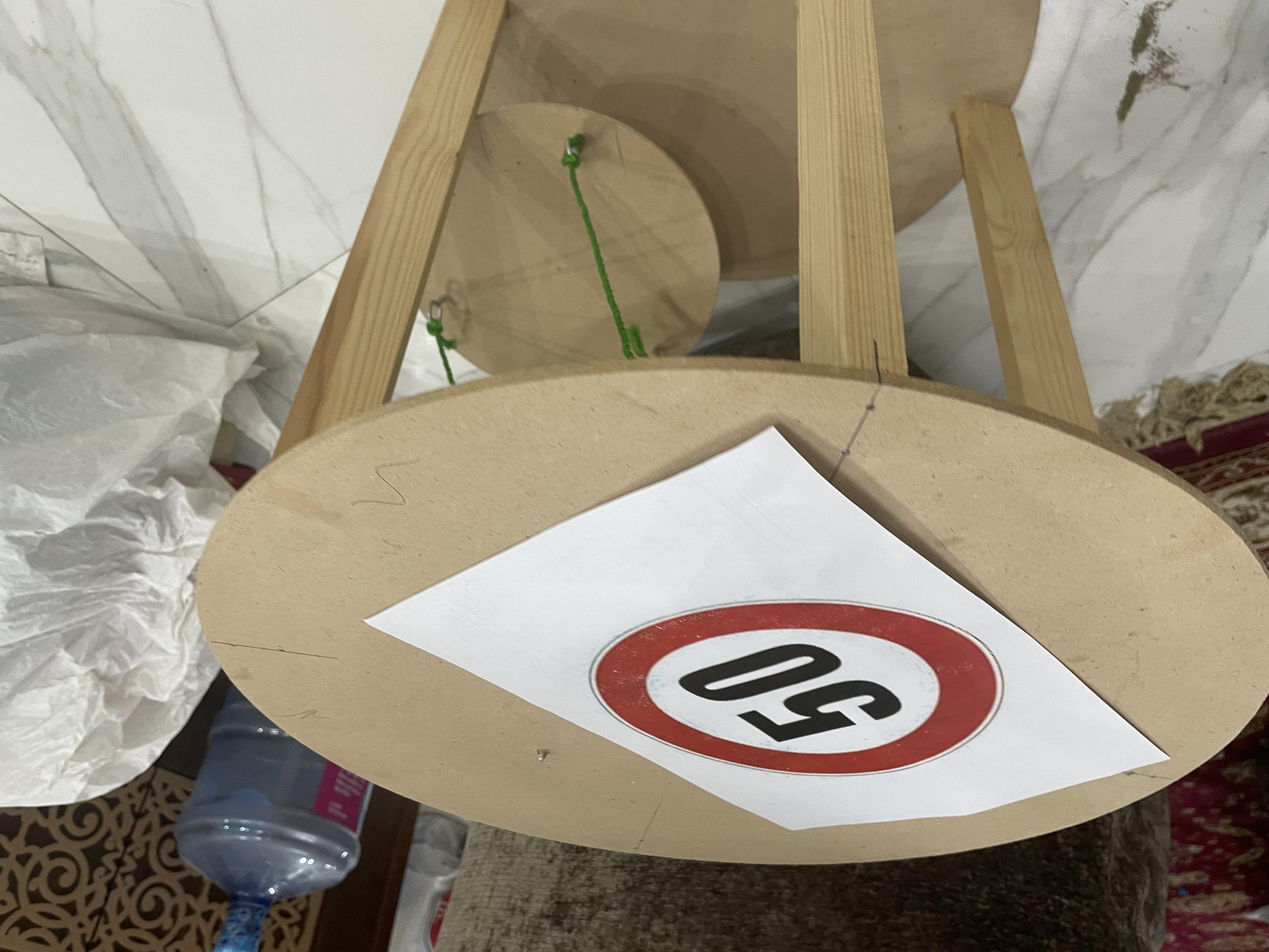50-Speed: (268, 161, 696, 357)
